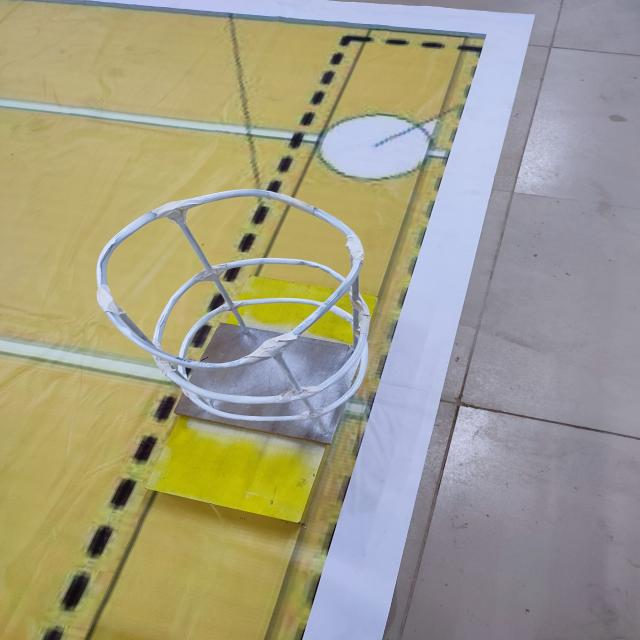silo: (81, 174, 397, 466)
